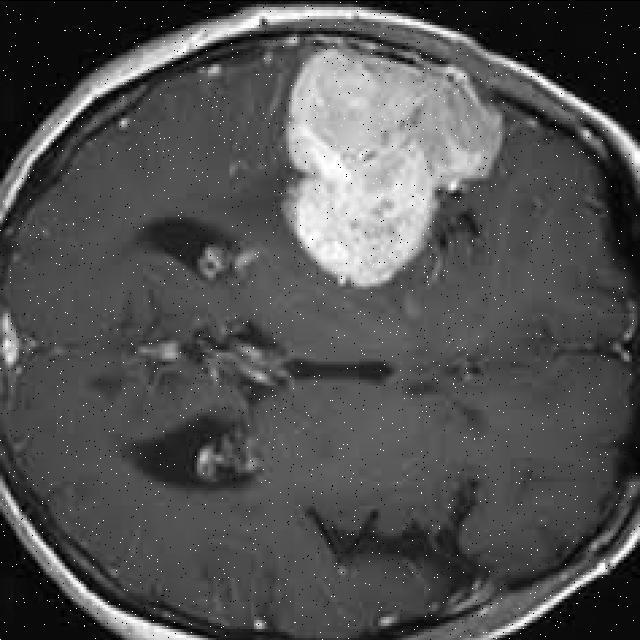Meningioma: (283, 49, 501, 287)
